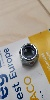Nut: (18, 42, 40, 68)
